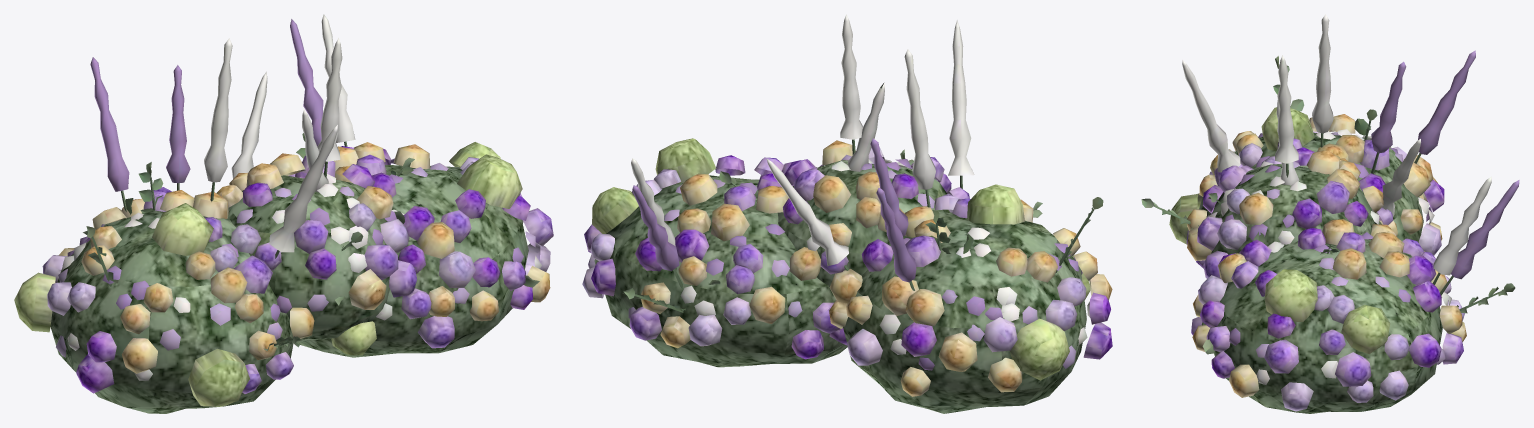
File: lilac_cluster.glb
3 renders of one model, left to right at view 1: azimuth 30°, elevation 25°; view 2: azimuth 150°, elevation 25°; view 3: azimuth 270°, elevation 25°, orthographic. The views are drawn at different scales.
Parts seen in each view (by area): view 1: lilac_cluster; view 2: lilac_cluster; view 3: lilac_cluster.
Part boxes in pixels (x1=…): lilac_cluster: x1=14, y1=14, x2=553, y2=413; lilac_cluster: x1=582, y1=14, x2=1112, y2=413; lilac_cluster: x1=1141, y1=14, x2=1519, y2=413.
Size of the model in its own units: 1.53 by 1.02 by 1.12.
1 material, 1 textured.
